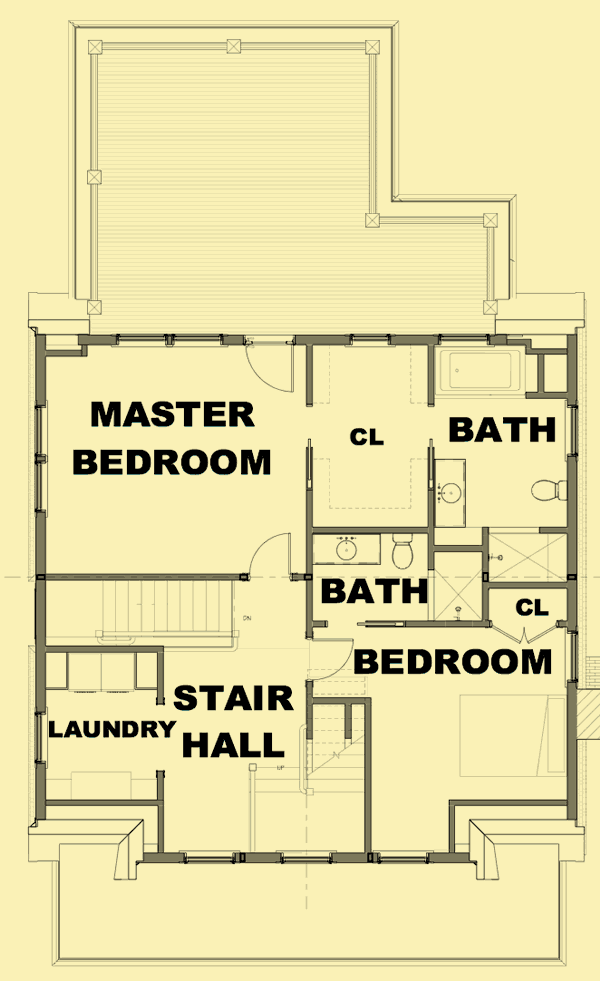bathroom has a small and large sink with shower and bathtub: (426, 337, 583, 630)
bedroom has a double bed: (367, 629, 580, 864)
laundry has a washer and dryer: (35, 644, 165, 805)
open area has staircase: (159, 697, 369, 866)
small bathroom has a small and large sink: (304, 524, 436, 628)
